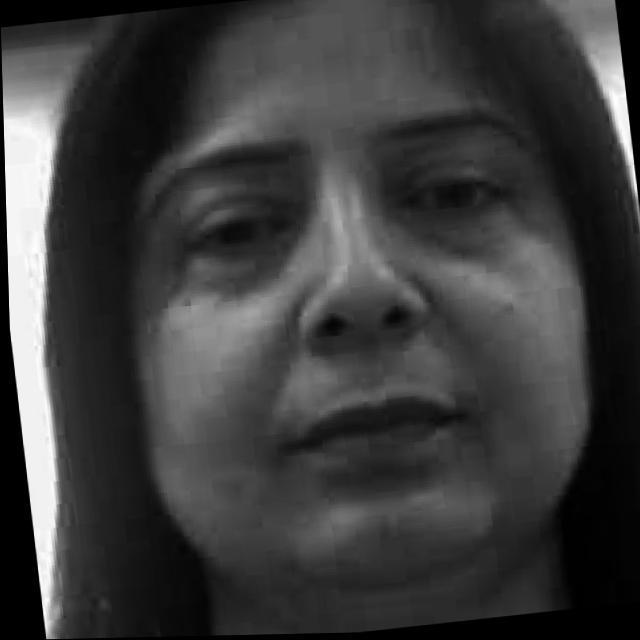puffy_eyes: (179, 233, 303, 292), (398, 216, 509, 249)
